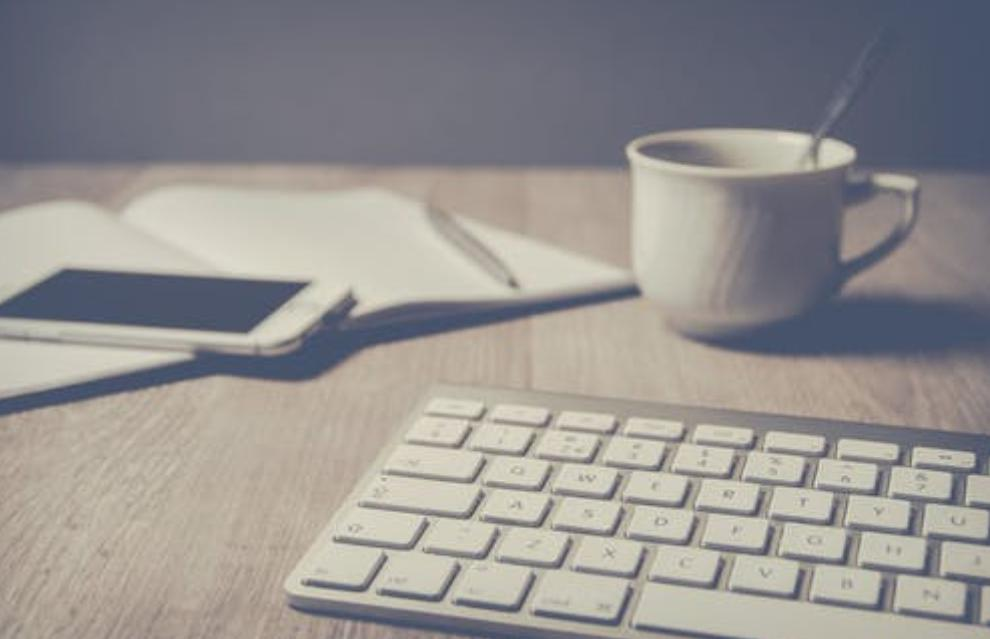mobile: (3, 268, 352, 357)
